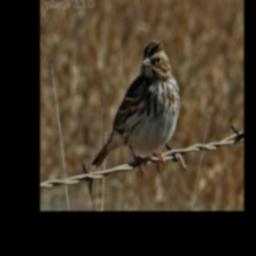Sparrow: (91, 39, 183, 177)
